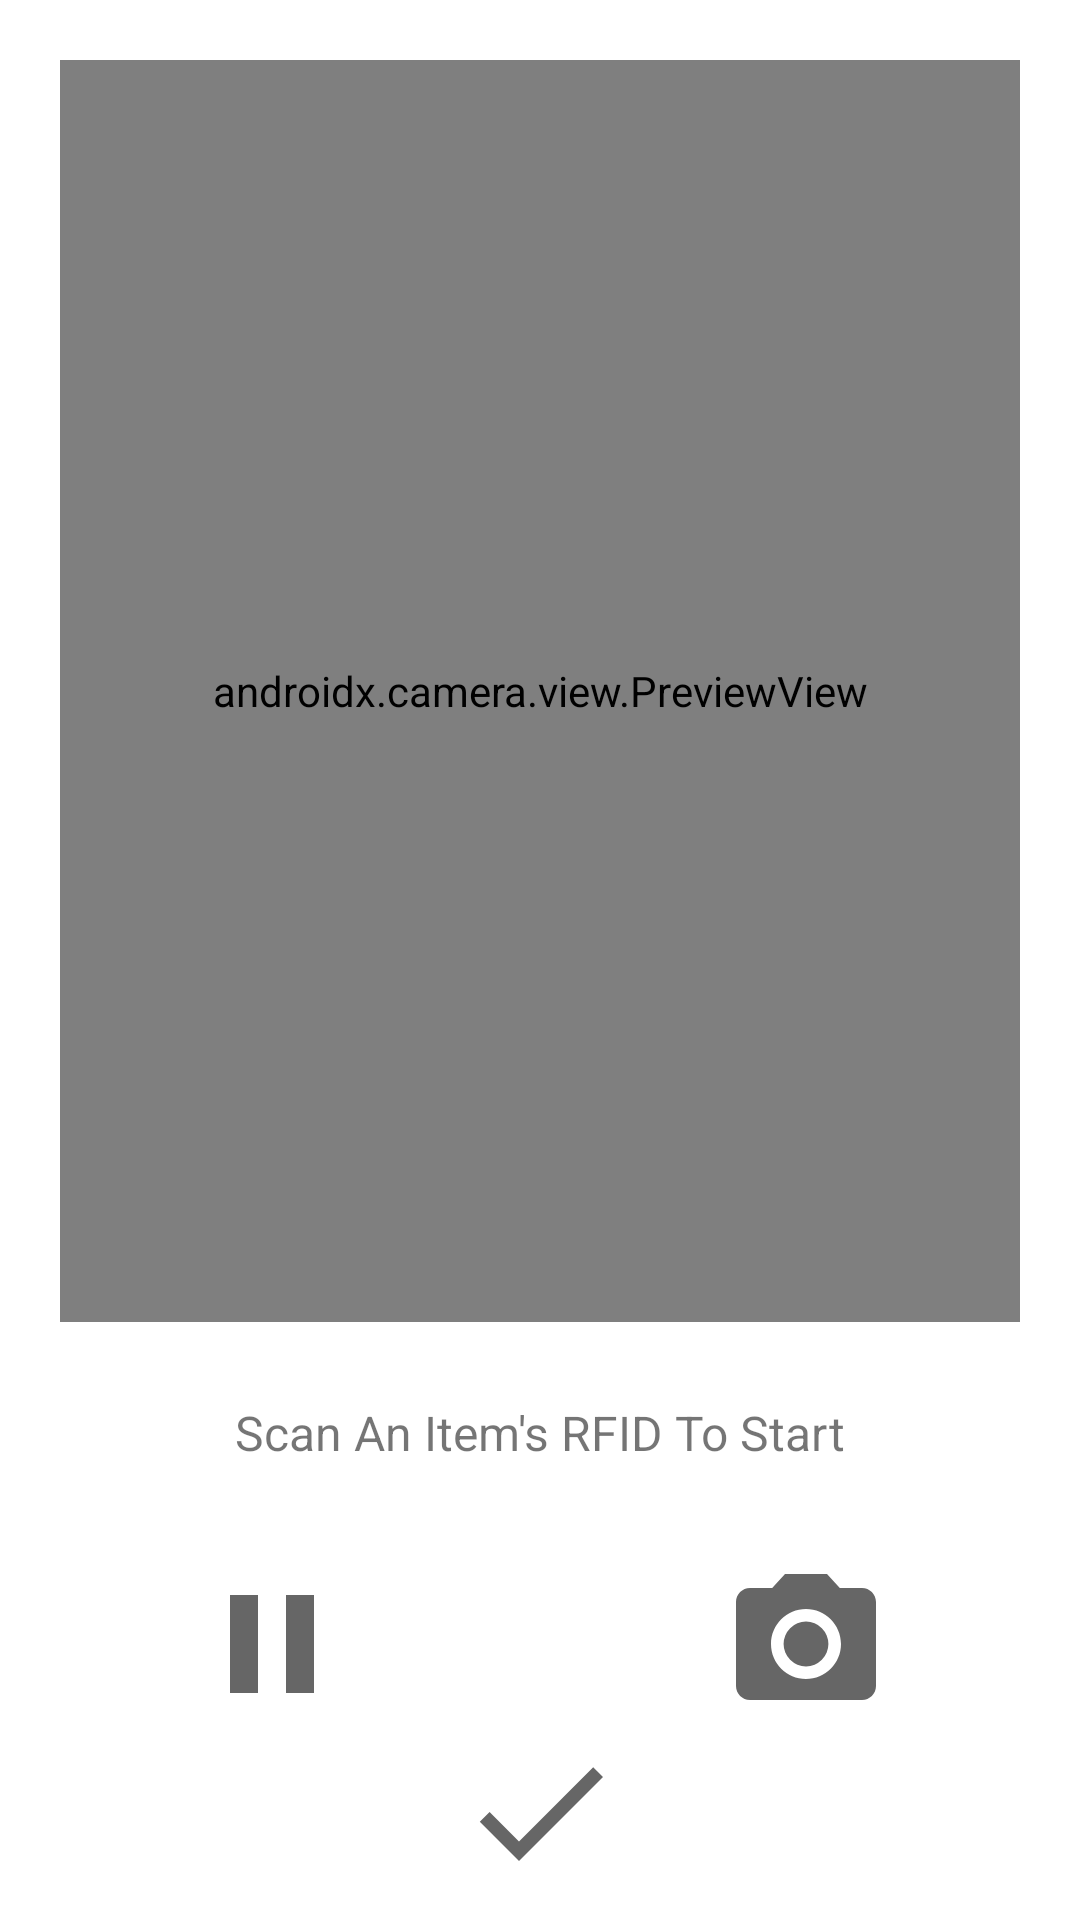

Named icons in this screenshot (1080×1920) and their bounding boxes, rect(x1, y1, x2, y2):
camera capture: rect(736, 1574, 876, 1700)
done: rect(480, 1767, 603, 1861)
pause: rect(230, 1595, 314, 1693)
